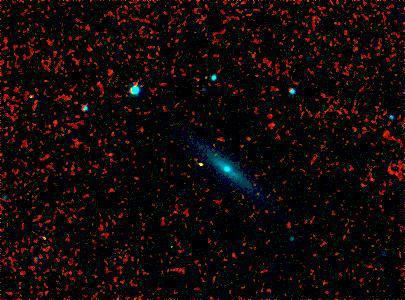star: (243, 178, 273, 208)
